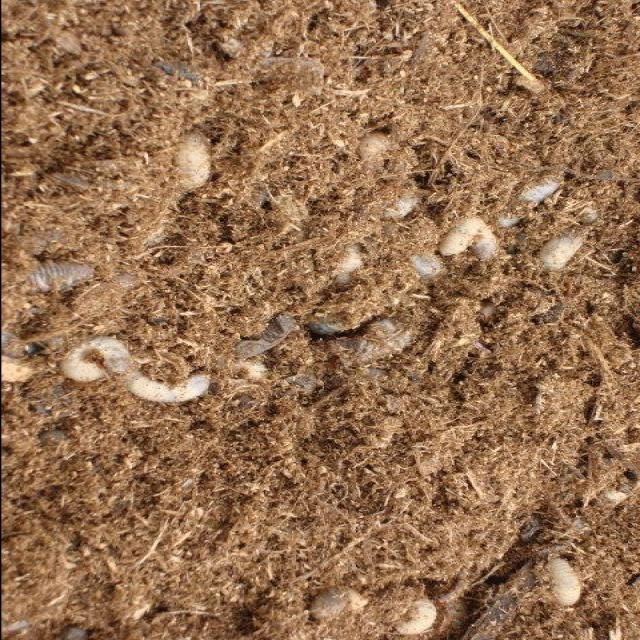grub: (55, 341, 216, 425), (173, 130, 233, 197), (428, 219, 510, 267), (15, 255, 99, 300), (530, 230, 600, 275), (541, 557, 589, 617)
